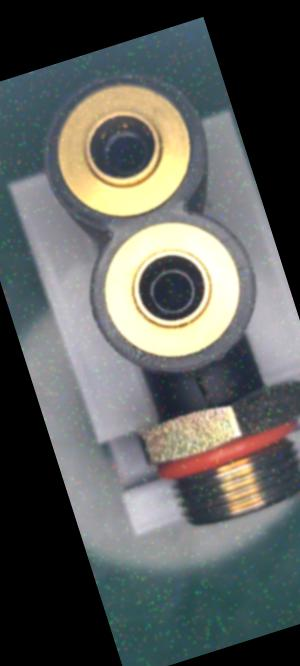craze: (180, 363, 221, 414)
